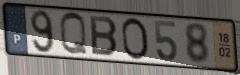5: (153, 18, 179, 63)
8: (183, 21, 212, 67)
9: (28, 8, 56, 55)
B: (88, 14, 120, 58)
O: (120, 16, 151, 62)
Q: (58, 11, 90, 57)
